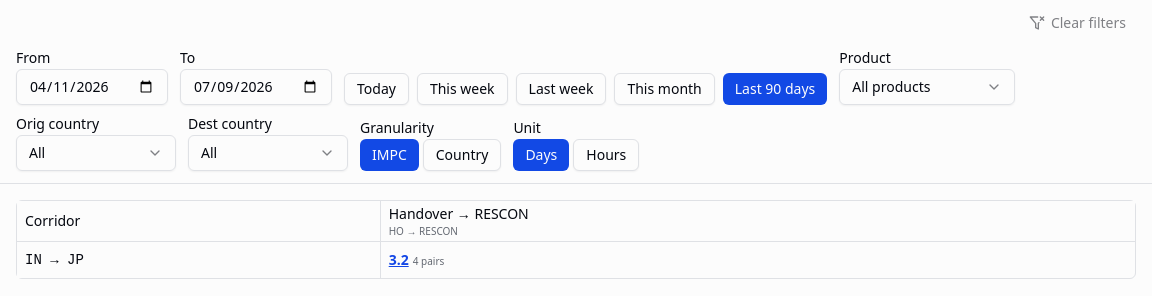
Test: EventGapsPage › switches matrix values to hours via the unit toggle
Check: the button "3.2" is shown, box [389,250,409,270]
Click the button "Hours". click: [606, 155]
box: [573,139,639,171]
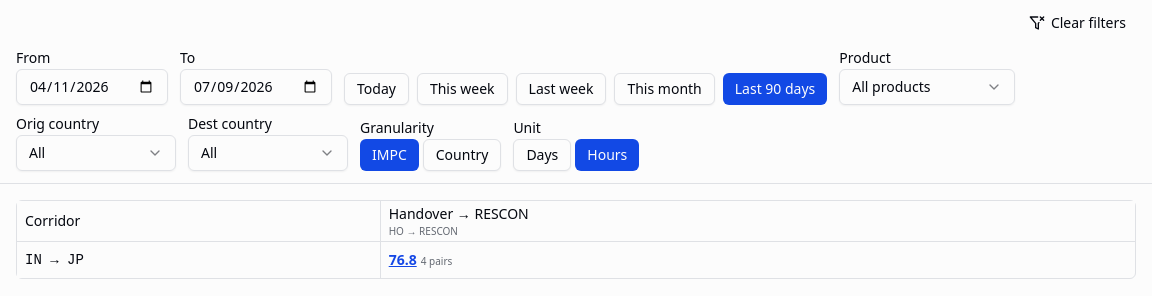
Check: the button "76.8" is shown, box [389,250,417,270]
